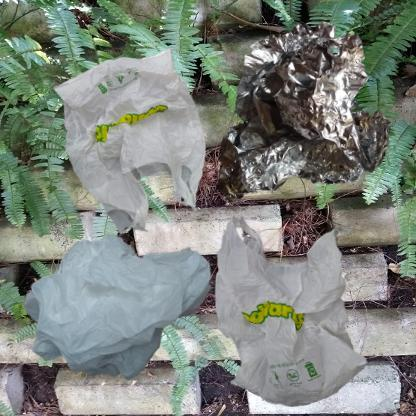aluminio: (213, 10, 407, 226)
bolsa: (10, 10, 271, 278), (10, 213, 246, 412), (213, 213, 369, 409)
